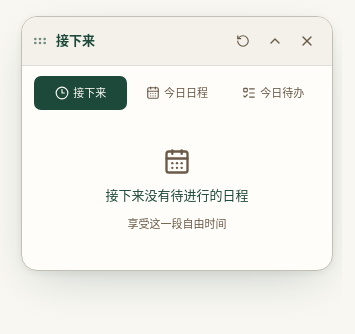
Test: floating schedule window › shows a future priority task with its original due date
Click the button "今日待办": [273, 93] box x1=227 y1=76 x2=320 y2=110
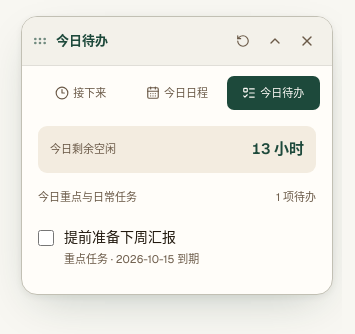
Expected: the text "提前准备下周汇报" is shown, x1=64 y1=228 x2=176 y2=246
Expected: the text "重点任务 · 2026-10-15 到期" is shown, x1=64 y1=252 x2=199 y2=266
